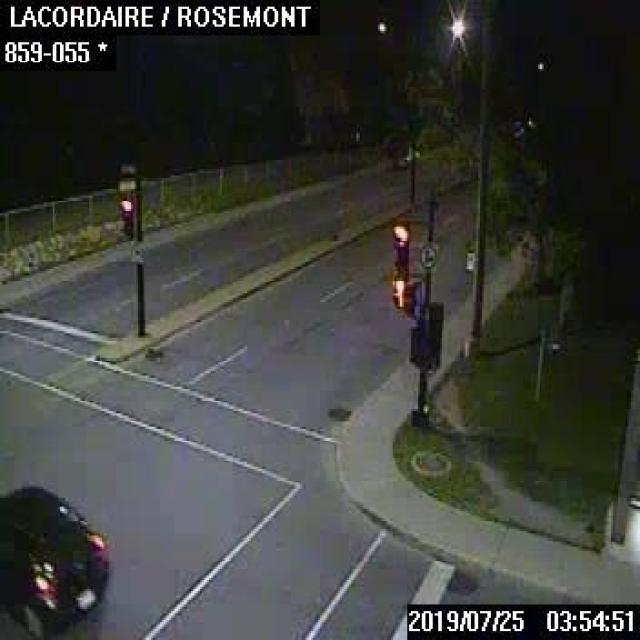vehicle: (0, 484, 109, 638)
